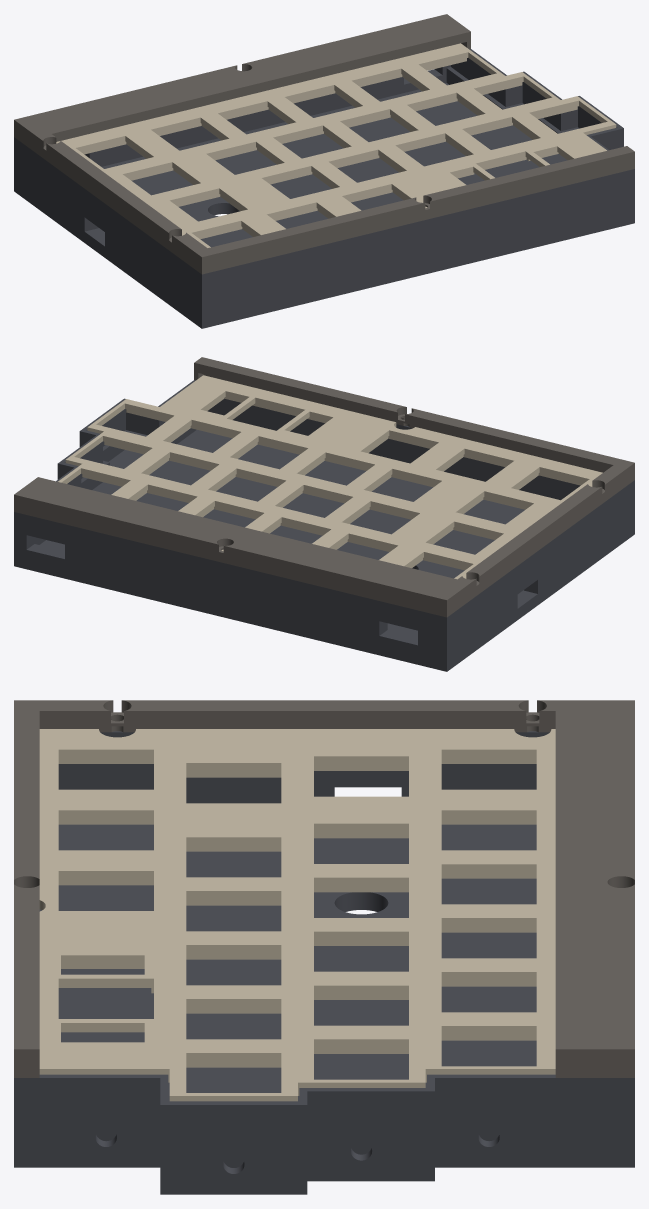
The model's file is gemini_left_case.glb.
3 renders of one model, top to bottom at view 1: azimuth 30°, elevation 25°; view 2: azimuth 150°, elevation 25°; view 3: azimuth 270°, elevation 25°, orthographic. The views are drawn at different scales.
Visible parts, largest first — view 1: bottom, plate, top; view 2: bottom, plate, top; view 3: plate, bottom, top.
Boxes of the visible parts, left/top/right/bottom form: bottom: left=14, top=49, right=634, bottom=328; plate: left=56, top=43, right=616, bottom=247; top: left=14, top=14, right=634, bottom=274; bottom: left=14, top=380, right=634, bottom=671; plate: left=58, top=375, right=602, bottom=579; top: left=14, top=357, right=634, bottom=617; plate: left=39, top=729, right=555, bottom=1101; bottom: left=14, top=731, right=634, bottom=1194; top: left=14, top=700, right=634, bottom=1077.
Size of the model in its own units: 133 by 19.5 by 92.7.
